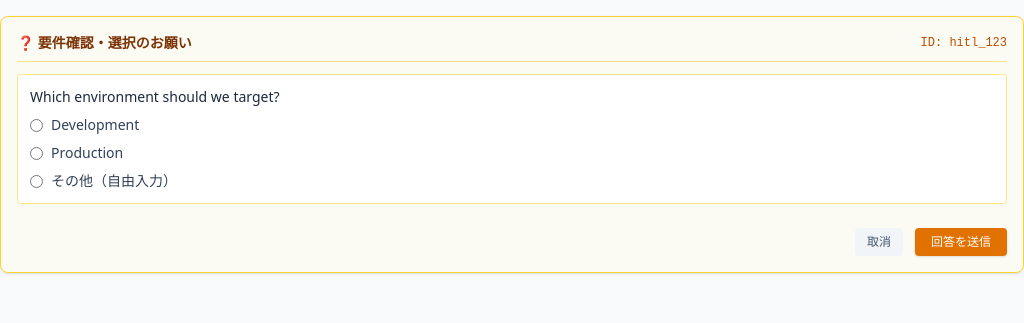
it: WaitingRunQuestionCard › validates selection before submission
Click the button "回答を送信" at point(961, 242), box [915,228,1007,256]
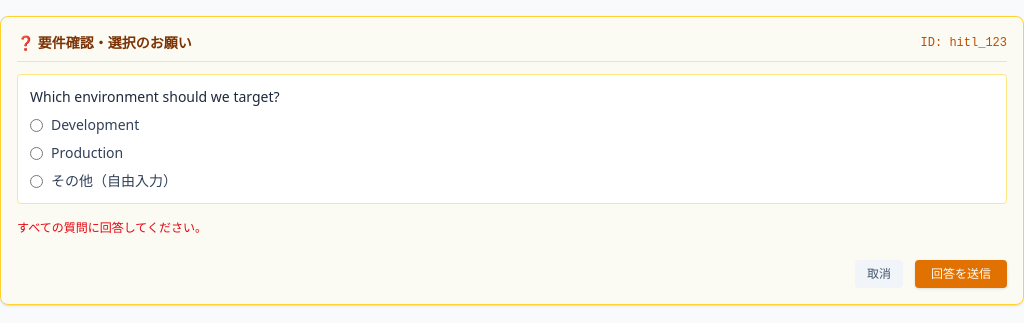
Now the text "すべての質問に回答してください。" is shown, box [17,219,207,236]
